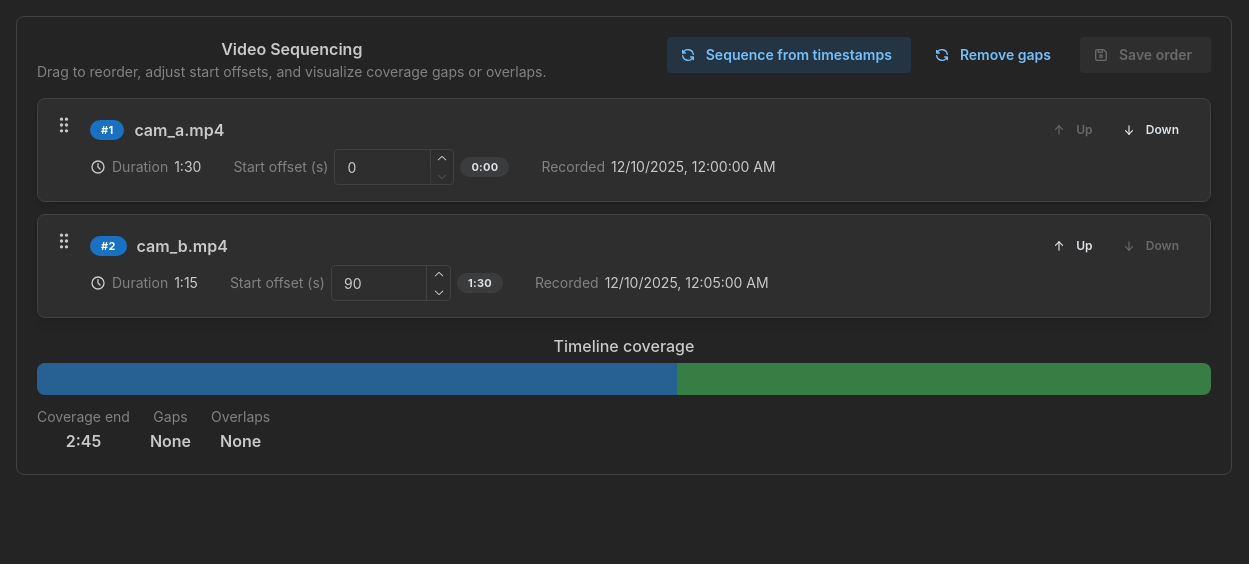
Test: VideoSequencer › persists order changes and notifies parent
Click the button "Down" in the row of "cam_a.mp4". click: (1153, 130)
box: [1112, 115, 1194, 145]
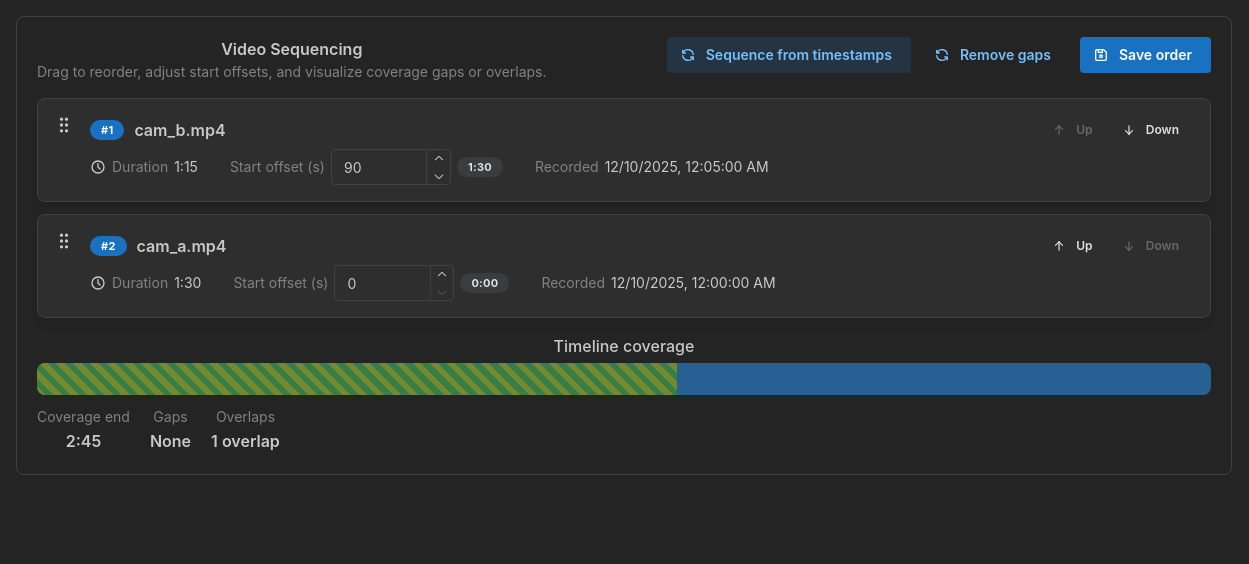
Click the button "Save order". click: (1146, 55)
box: [1080, 37, 1211, 73]
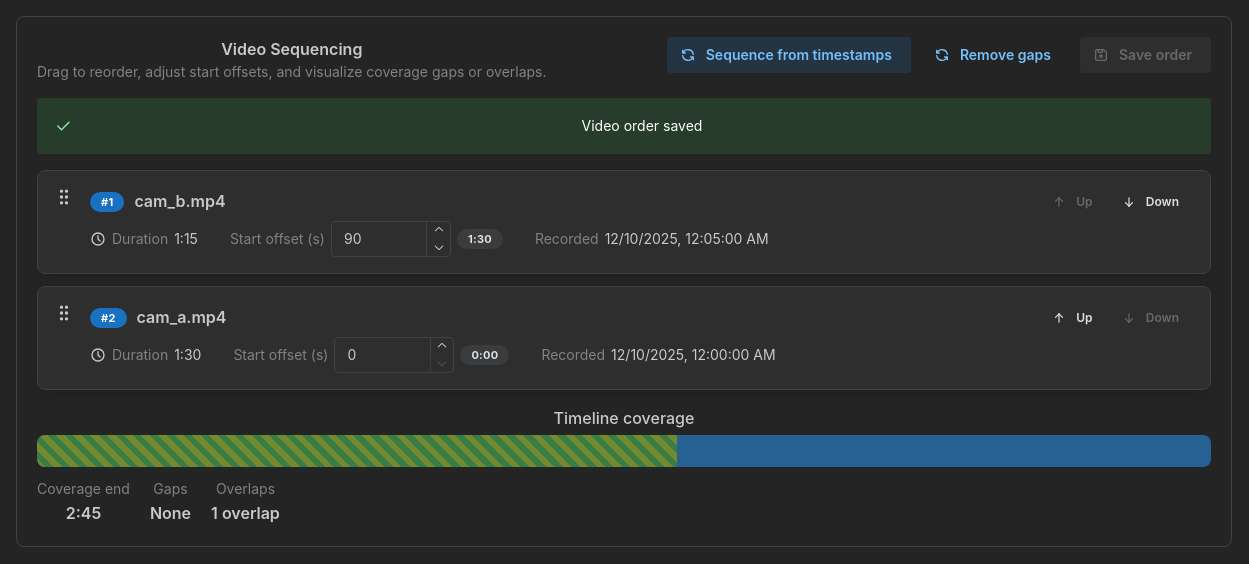
Now the text "Video order saved" is shown, box [582, 117, 702, 134]
